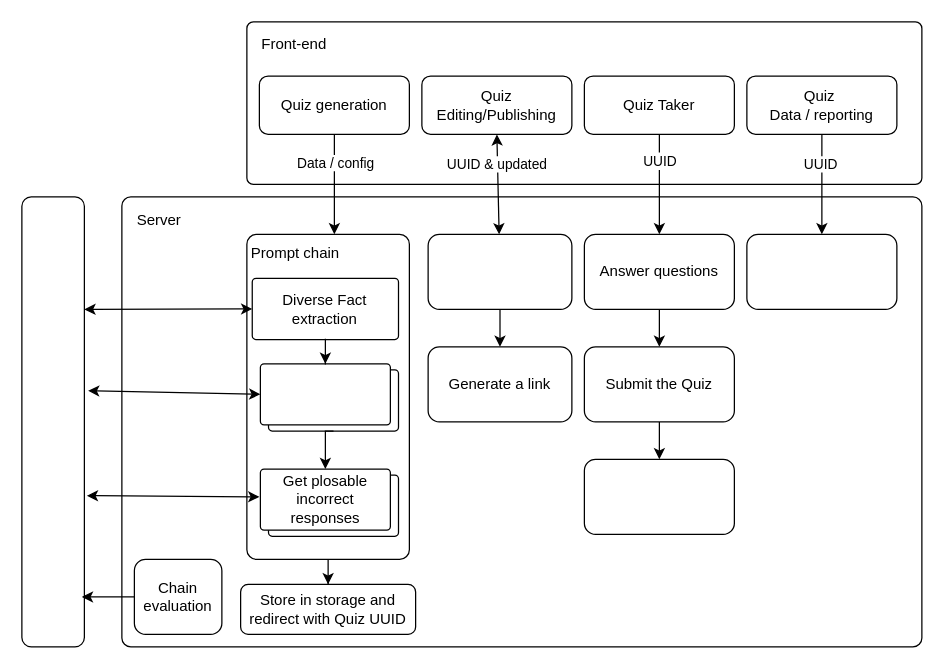
This 944x669 diagram has some shape labels left out. The centre of each missing label's shape, as x and y in pixels:
"Convert into a question without the answer" belongs at point (324, 393).
"Data/reports" belongs at point (821, 271).
"Editing (optional)" belongs at point (499, 271).
"LLM" belongs at point (52, 421).
"Result" belongs at point (658, 496).
